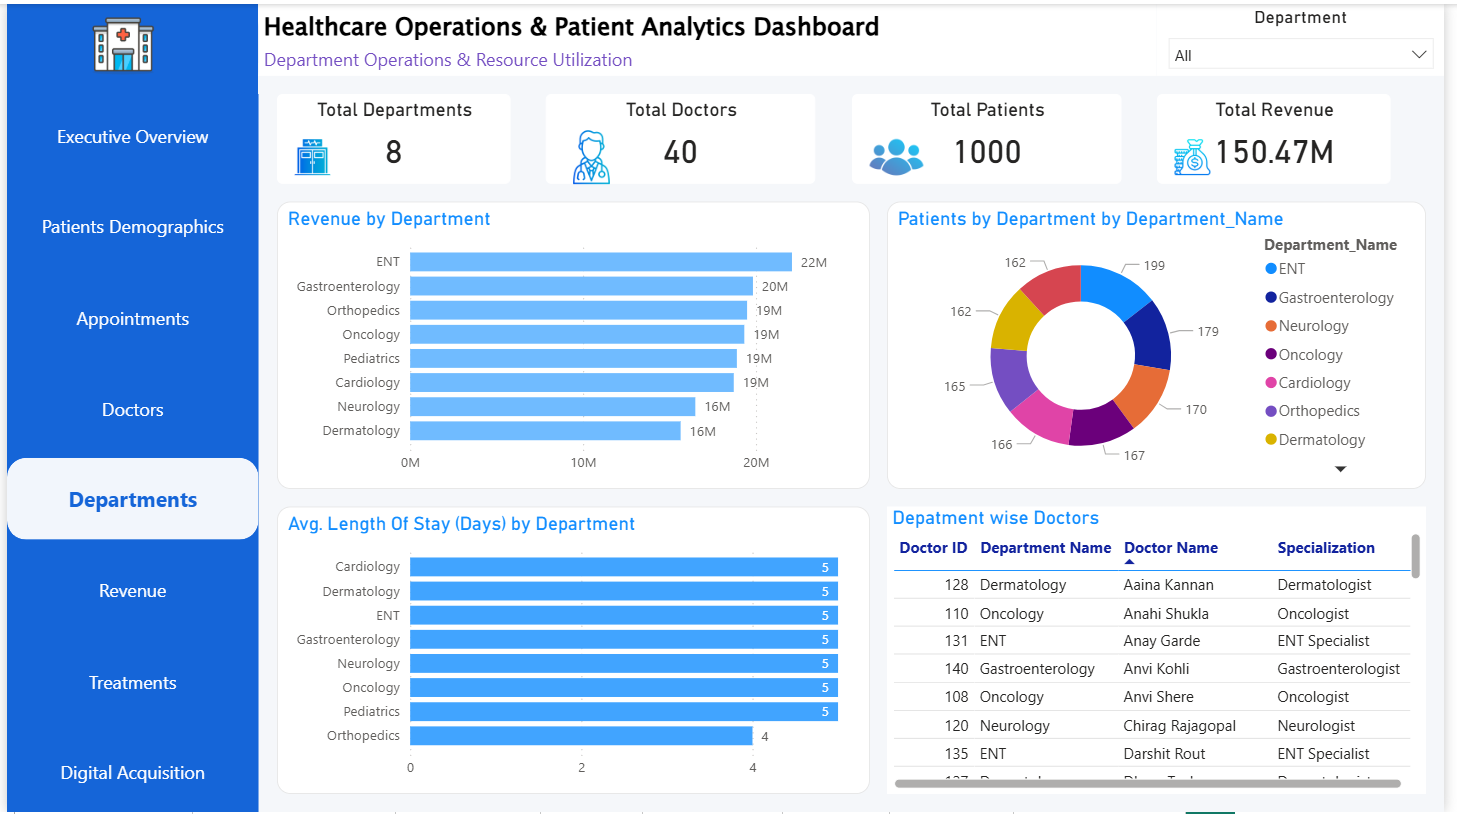

What the dashboard file says about the page in this screenshot:
{"tool":"powerbi","page":{"name":"Departments","canvas":[1280,720],"ordinal":4},"visuals":[{"type":"shape","box":[0,0,224,80],"z":0,"group":"g1"},{"type":"card","title":"Total Departments","fields":{"Values":["CountNonNull(Departments.Department_ID)"]},"box":[240,80,208,80],"z":0},{"type":"image","box":[64,0,80,64],"z":1000,"group":"g1"},{"type":"card","title":"Total Doctors","fields":{"Values":["CountNonNull(Doctors.Doctor_ID)"]},"box":[480,80,240,80],"z":1000},{"type":"card","title":"Total Patients","fields":{"Values":["CountNonNull(Patients.Patient_ID)"]},"box":[752,80,240,80],"z":2000},{"type":"card","title":"Total Revenue","fields":{"Values":["Sum(Revenue.Revenue_Amount)"]},"box":[1024,80,208,80],"z":3000},{"type":"barChart","title":"Revenue by Department","fields":{"Category":["vw_Department_Revenue.Department_Name"],"Y":["Sum(vw_Department_Revenue.Total_Revenue)"]},"box":[240,176,528,256],"z":4000},{"type":"barChart","title":"Avg. Length Of Stay (Days) by Department","fields":{"Y":["Sum(vw_Avg_Length_of_Stay.Avg_LOS)"],"Category":["vw_Avg_Length_of_Stay.Department_Name"]},"box":[240,448,528,256],"z":5000},{"type":"donutChart","fields":{"Y":["Patient_Visits.Patients by Department"],"Category":["Departments.Department_Name"]},"box":[784,176,480,256],"z":6000},{"type":"tableEx","title":"Depatment wise Doctors","fields":{"Values":["Doctors.Doctor_ID","Departments.Department_Name","Doctors.Doctor_Name","Doctors.Specialization"]},"box":[784,448,480,256],"z":7000},{"type":"pageNavigator","box":[0,80,224,640],"z":8000},{"type":"group","id":"g1","title":"Group 1","box":[0,0,224,80],"z":9000},{"type":"textbox","box":[224,0,800,64],"z":10000},{"type":"slicer","title":"Department","fields":{"Values":["Departments.Department_Name"]},"box":[1024,0,256,64],"z":11000},{"type":"image","box":[768,112,48,48],"z":12000},{"type":"image","box":[1040,112,32,48],"z":13000},{"type":"image","box":[256,112,32,48],"z":14000},{"type":"image","box":[496,112,48,48],"z":15000}]}

Visuals, with their boxes on the page's 1280x720 design canvas (x1, y1, x2, y2). These are canvas units, not pixel positions in the 1457x814 screenshot, which may show the page scaled, cropped or inside an application window:
shape: (0,0,224,80)
"Total Departments" card: (240,80,448,160)
image: (64,0,144,64)
"Total Doctors" card: (480,80,720,160)
"Total Patients" card: (752,80,992,160)
"Total Revenue" card: (1024,80,1232,160)
"Revenue by Department" barChart: (240,176,768,432)
"Avg. Length Of Stay (Days) by Department" barChart: (240,448,768,704)
donutChart - Patient_Visits.Patients by Department x Departments.Department_Name: (784,176,1264,432)
"Depatment wise Doctors" tableEx: (784,448,1264,704)
pageNavigator: (0,80,224,720)
"Group 1" group: (0,0,224,80)
textbox: (224,0,1024,64)
"Department" slicer: (1024,0,1280,64)
image: (768,112,816,160)
image: (1040,112,1072,160)
image: (256,112,288,160)
image: (496,112,544,160)
